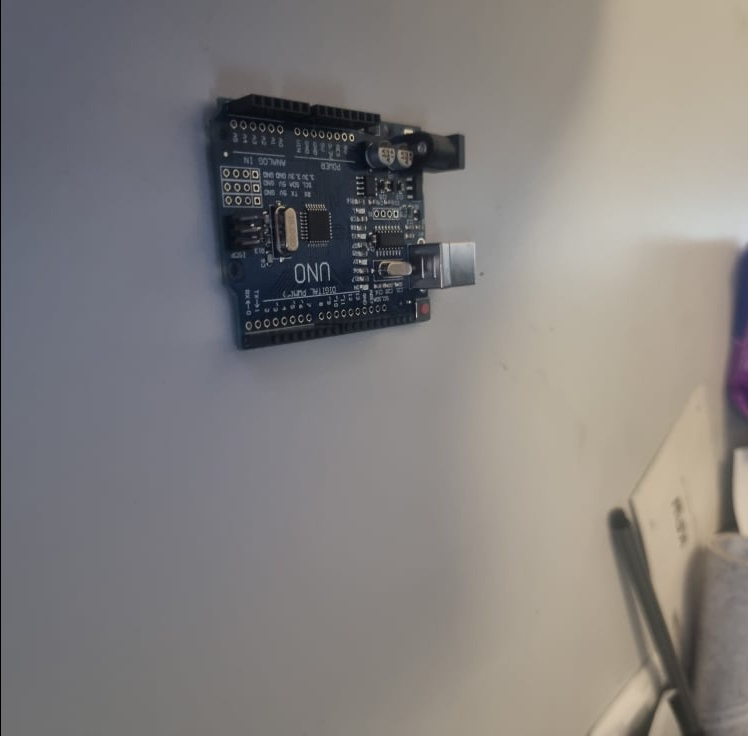UNO R3: (208, 94, 479, 354)
